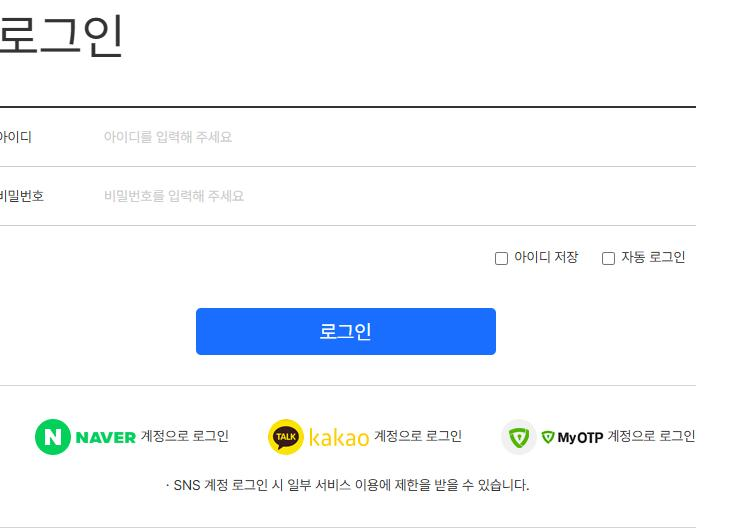button: (196, 308, 495, 356), (28, 421, 235, 456), (499, 421, 701, 454), (268, 422, 472, 447)
checkbox: (493, 250, 581, 267), (601, 251, 690, 265)
input_field: (89, 108, 532, 168), (90, 172, 532, 224)
